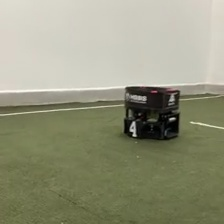robot: (123, 85, 181, 141)
